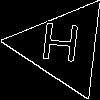H: (37, 22, 83, 72)
